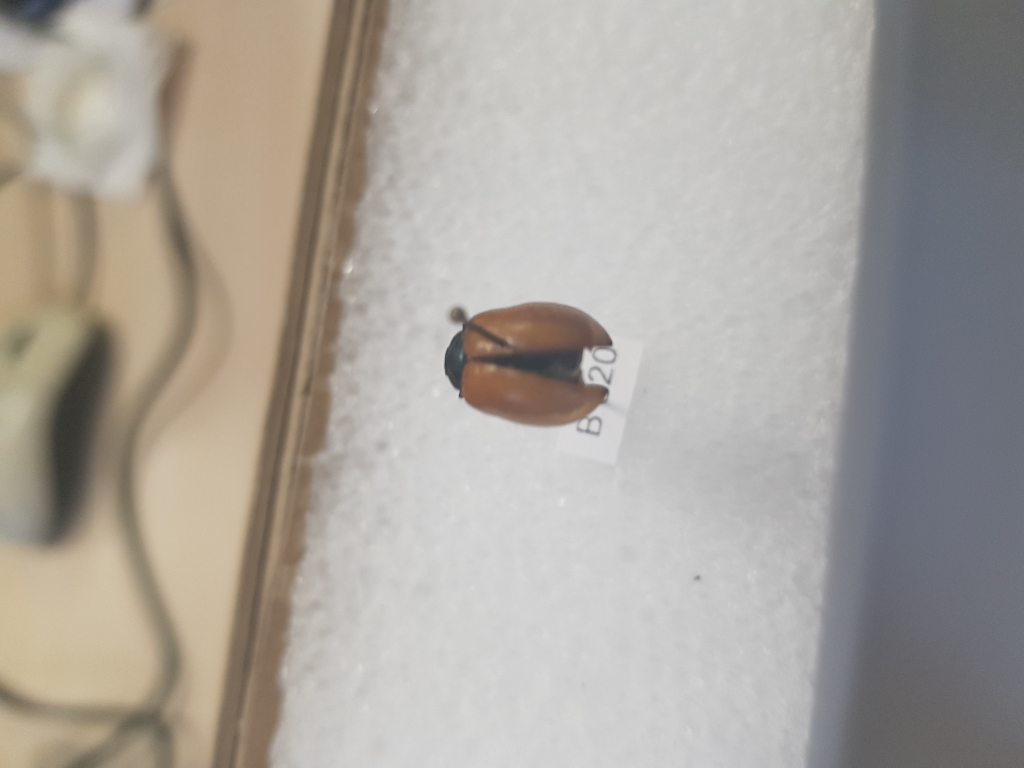Chrysomela_populi: (437, 300, 619, 425)
